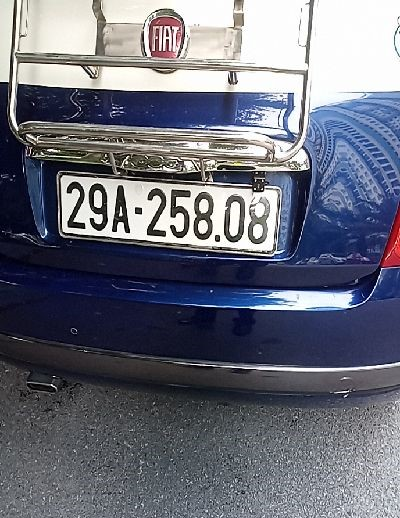number_plate: (55, 162, 298, 262)
